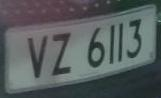1: (105, 21, 118, 67), (115, 19, 126, 66)
3: (125, 16, 144, 64)
6: (85, 23, 109, 70)
V: (24, 32, 52, 82)
Z: (48, 30, 75, 78)
